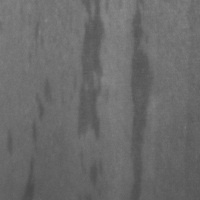inclusion: (126, 0, 153, 199), (75, 0, 107, 145), (30, 75, 53, 147), (20, 155, 39, 199), (87, 149, 105, 190), (2, 125, 18, 157)
